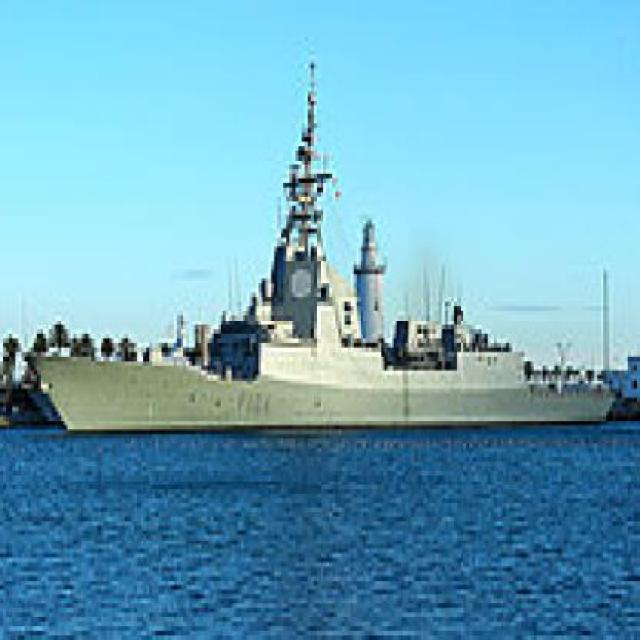warship2: (23, 33, 623, 450)
